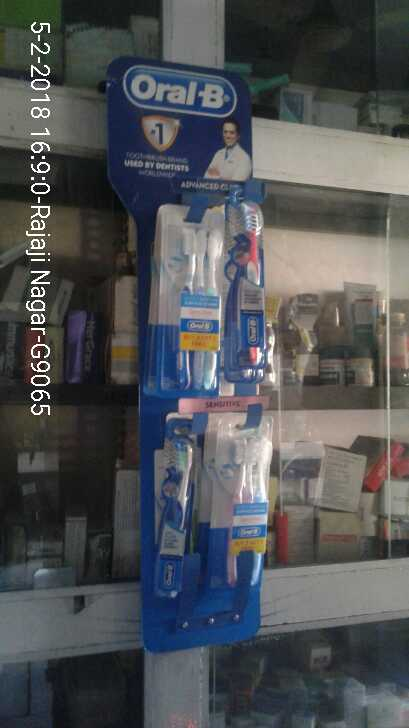oralb: (207, 426, 286, 597), (163, 222, 219, 395), (219, 206, 272, 387), (166, 440, 198, 579)
